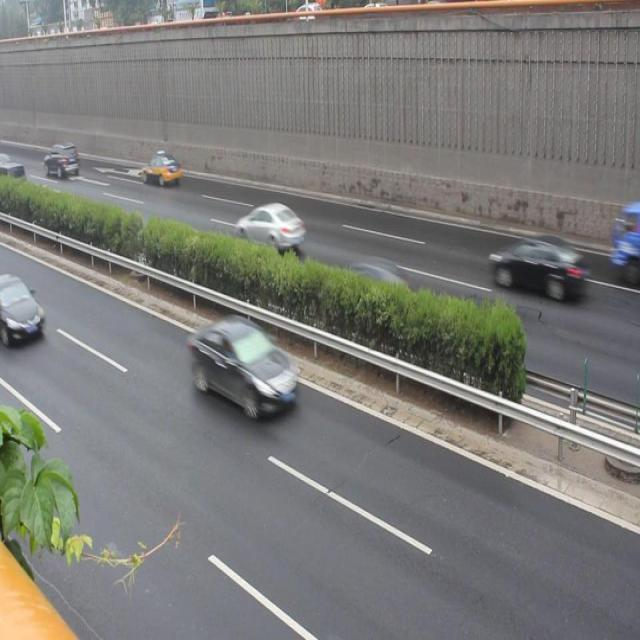bus: (606, 197, 640, 293)
car: (184, 312, 297, 426), (482, 228, 588, 312), (332, 243, 415, 326), (232, 191, 304, 259), (1, 266, 47, 348), (139, 148, 181, 196)
